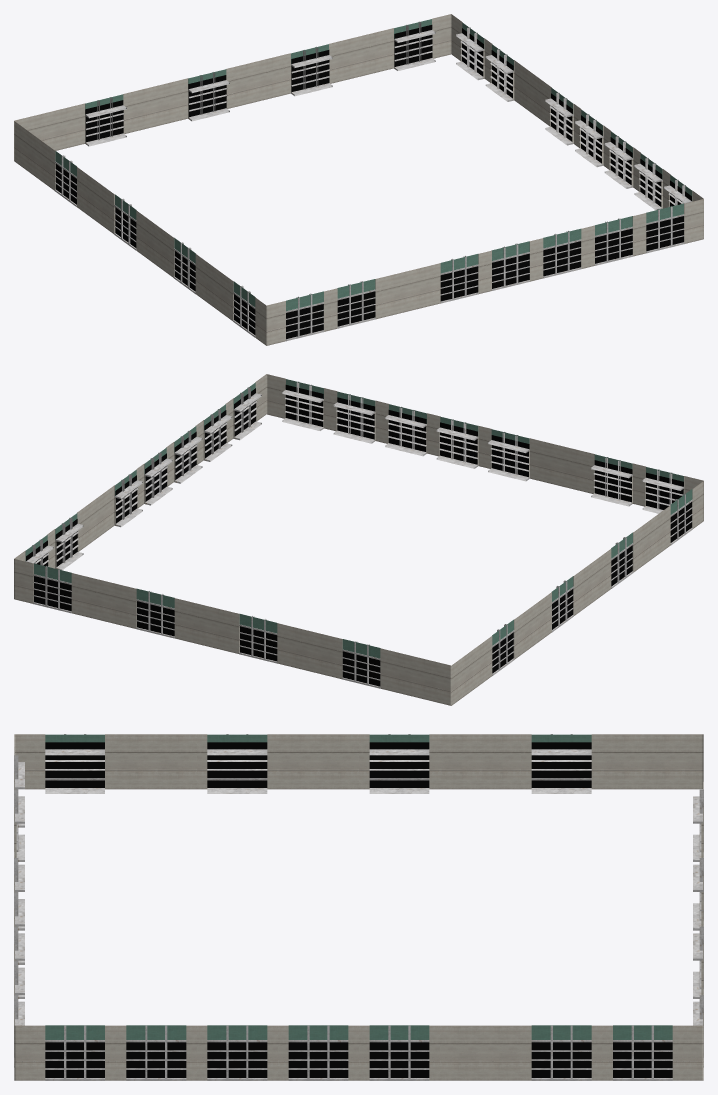
Rendered from BuildingD_Mid_Shell_VarB.fbx.
3 views of the same model, one above another, from view 1: azimuth 30°, elevation 25°; view 2: azimuth 150°, elevation 25°; view 3: azimuth 270°, elevation 25° (orthographic). The views are drawn at different scales.
Visible parts, largest first — view 1: BuildingD_Mid_Shell_VarB; view 2: BuildingD_Mid_Shell_VarB; view 3: BuildingD_Mid_Shell_VarB.
Boxes of the visible parts, x1,y1,x2,y2 form: BuildingD_Mid_Shell_VarB: (14, 14, 703, 345); BuildingD_Mid_Shell_VarB: (14, 374, 703, 705); BuildingD_Mid_Shell_VarB: (14, 734, 703, 1080).
Size of the model in its own units: 3404 by 300 by 3404.
